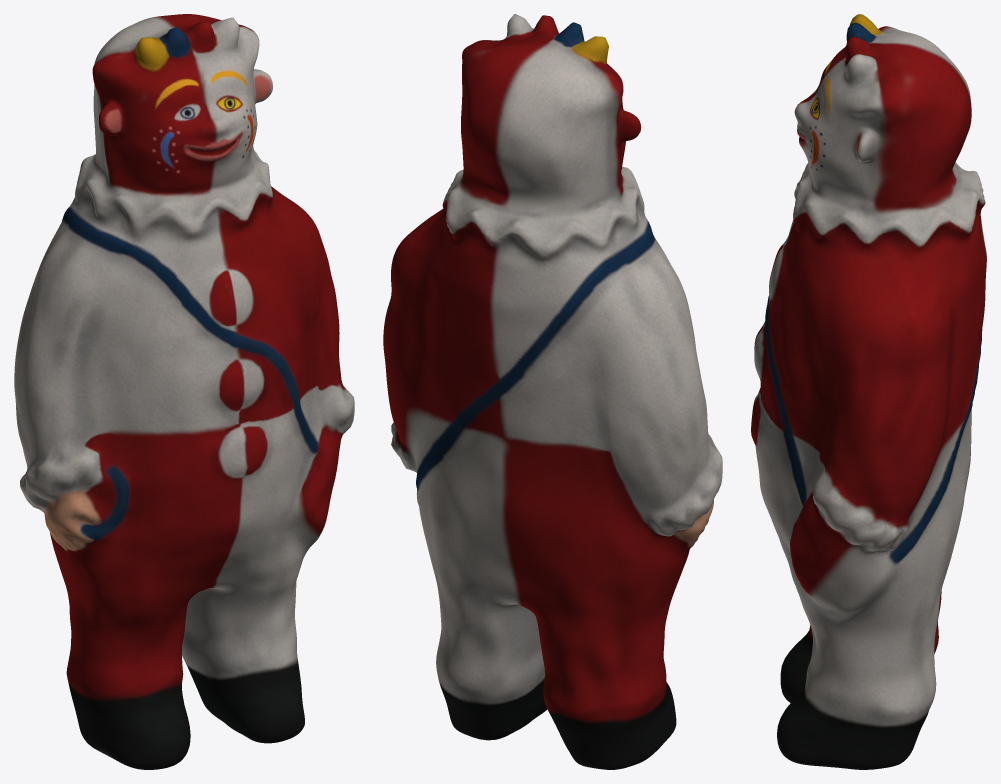
File: pepino.glb
3 views of the same model, side by side, from view 1: azimuth 30°, elevation 25°; view 2: azimuth 150°, elevation 25°; view 3: azimuth 270°, elevation 25° (orthographic). The views are drawn at different scales.
Parts seen in each view (by area): view 1: Pepino_low001; view 2: Pepino_low001; view 3: Pepino_low001.
Part boxes in pixels (x1,y1,x2,y2): Pepino_low001: (14, 14, 354, 769); Pepino_low001: (383, 14, 722, 769); Pepino_low001: (751, 14, 986, 769).
Size of the model in its own units: 1.91 by 4.09 by 1.25.
Materials: 1 (1 with a texture image).
